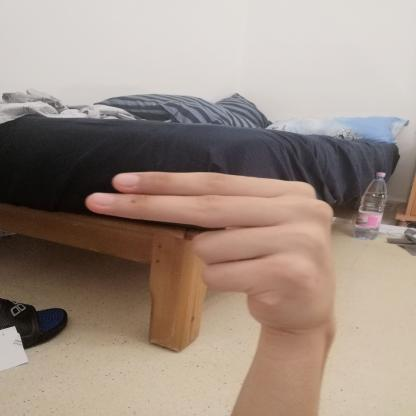AYN: (68, 152, 354, 340)
